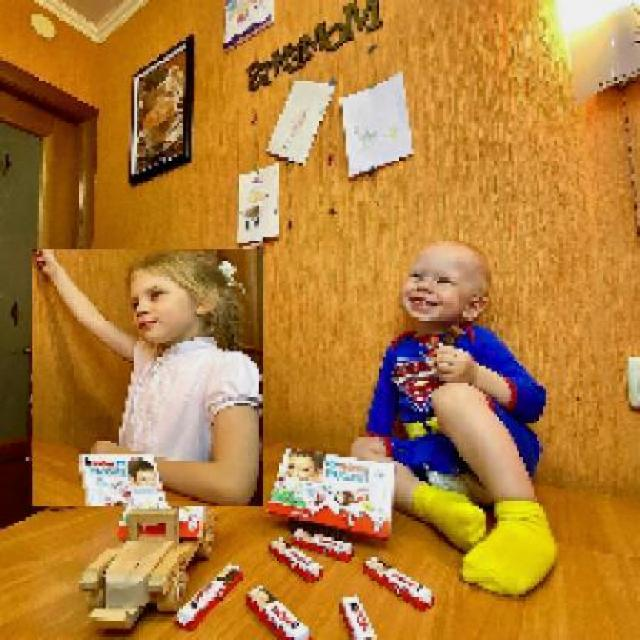child: (351, 236, 560, 598), (31, 249, 263, 508)
